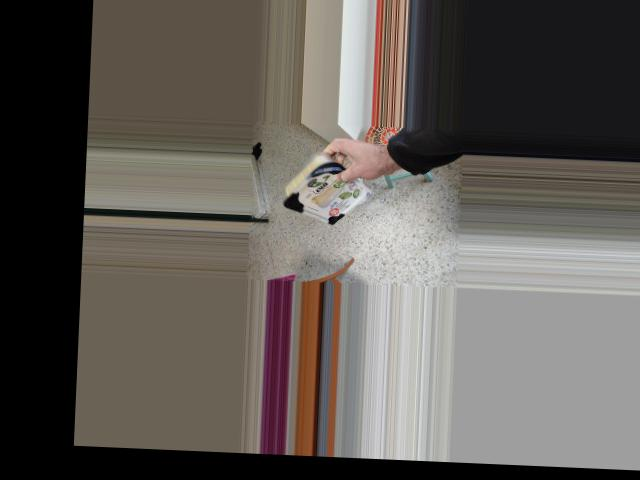cheese: (281, 128, 364, 236)
